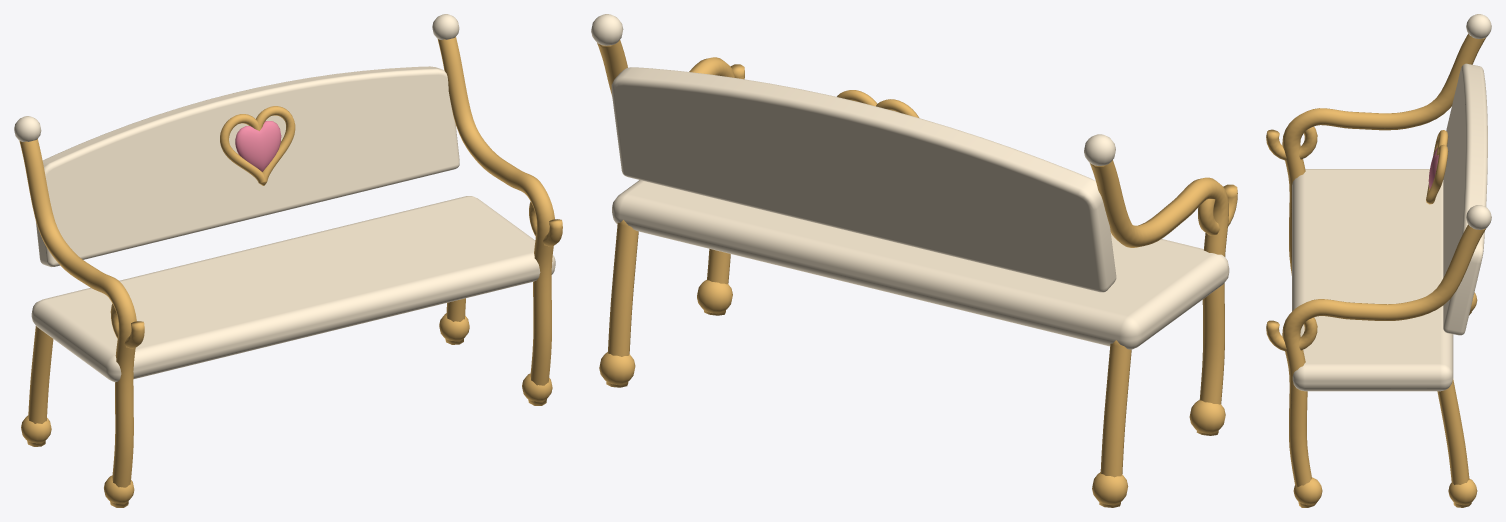
File: garden-bench.glb
3 views of the same model, side by side, from view 1: azimuth 30°, elevation 25°; view 2: azimuth 150°, elevation 25°; view 3: azimuth 270°, elevation 25° (orthographic). The views are drawn at different scales.
Visible parts, largest first — view 1: GardenBench; view 2: GardenBench; view 3: GardenBench.
Part boxes in pixels (<box>): GardenBench: <box>14,14,562,507</box>; GardenBench: <box>591,14,1237,507</box>; GardenBench: <box>1266,14,1491,507</box>.
Size of the model in its own units: 1.5 by 1.02 by 0.7.
